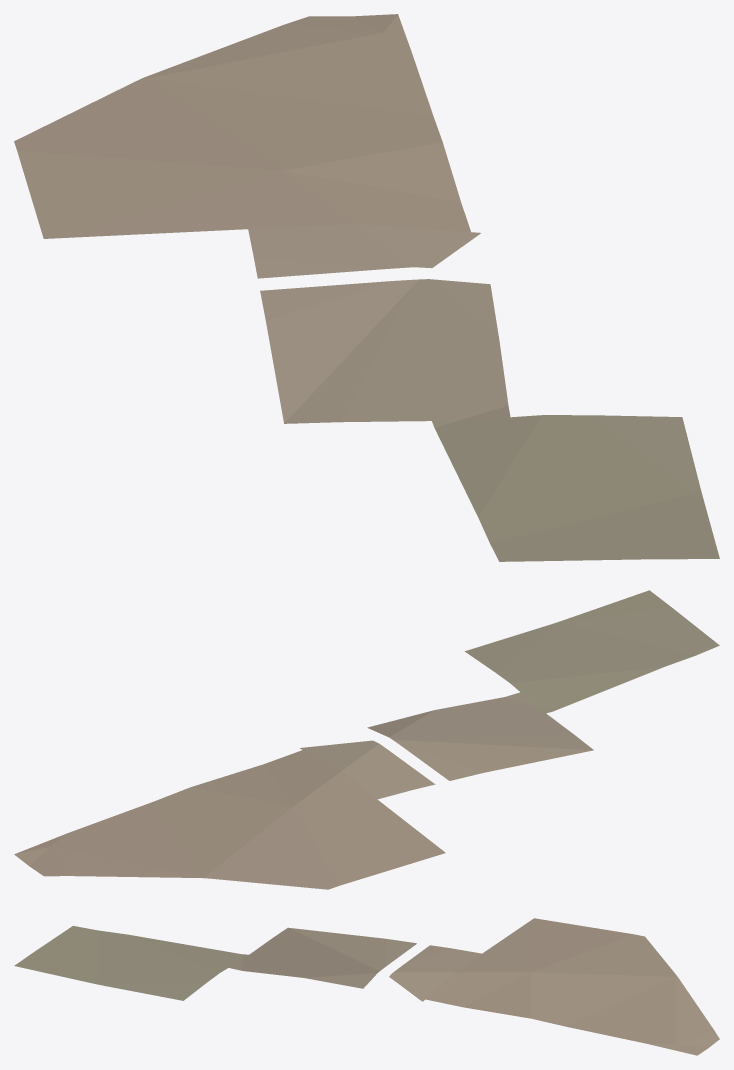
Rendered from farm_-20_-27_soil.glb.
3 views of the same model, one above another, from view 1: azimuth 30°, elevation 25°; view 2: azimuth 150°, elevation 25°; view 3: azimuth 270°, elevation 25° (orthographic). The views are drawn at different scales.
Parts seen in each view (by area): view 1: geometry_0; view 2: geometry_0; view 3: geometry_0.
Boxes of the visible parts, box(x1,y1,x2,y2) form: geometry_0: box(14, 14, 719, 561); geometry_0: box(14, 590, 719, 889); geometry_0: box(14, 918, 719, 1055).
Bounding box in the file's own units: 171 × 8.96 × 391.
